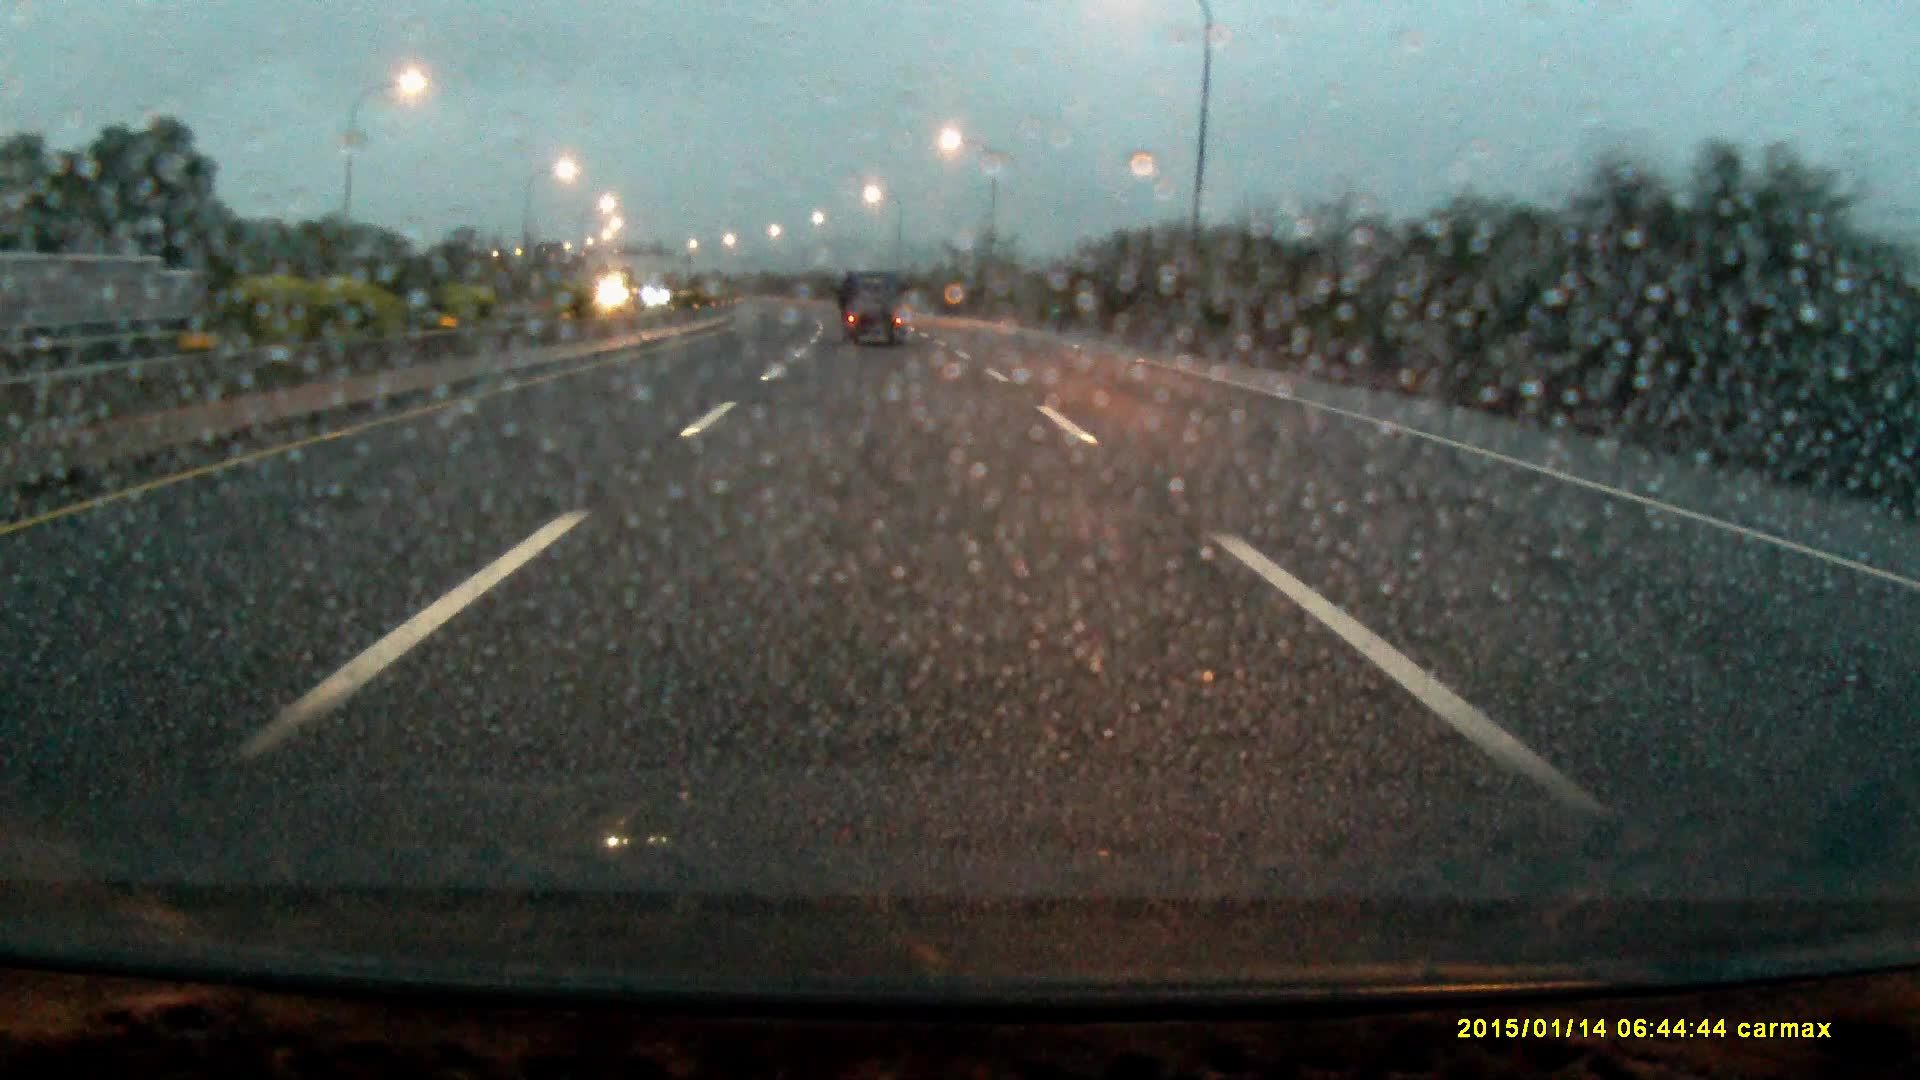vehicle: (841, 274, 911, 353)
